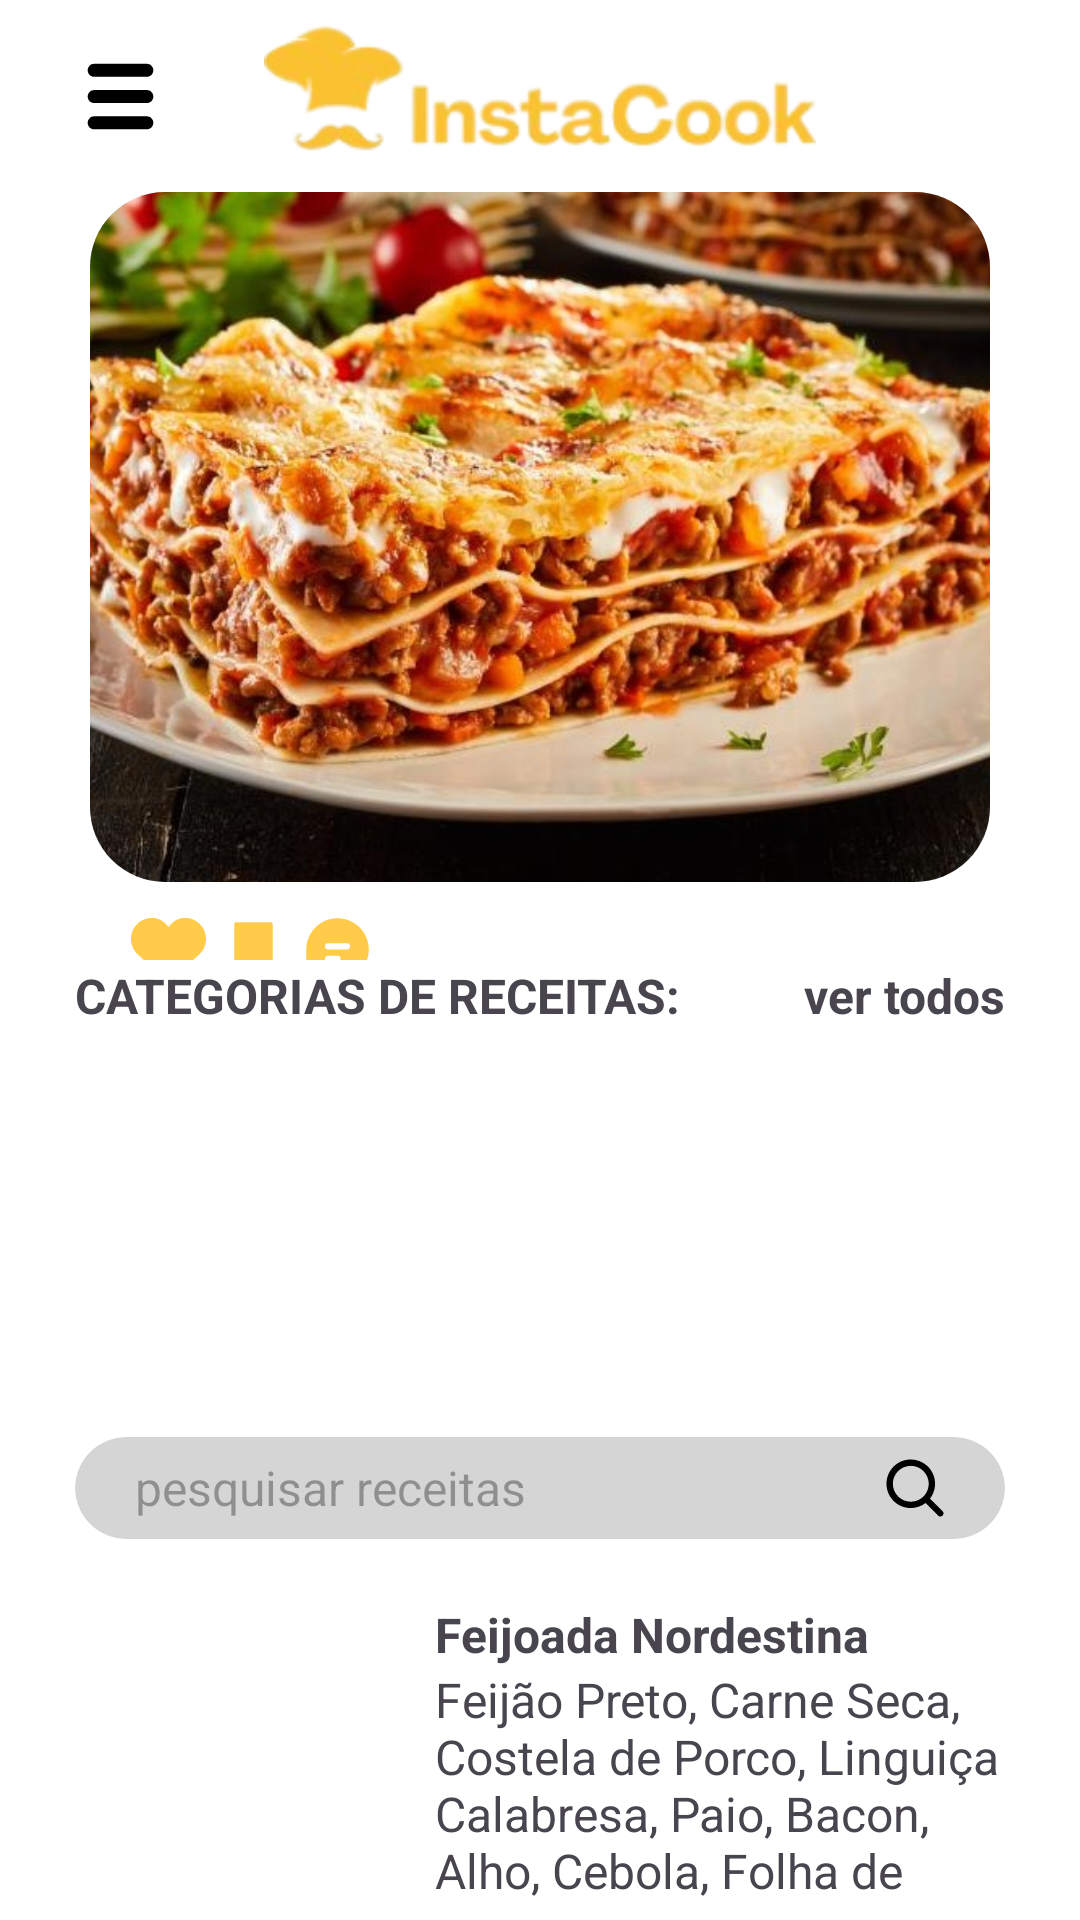

Icon click points for this 1080×1920 phone screenshot, format point (x, y):
menu: point (120, 96)
search: point (915, 1488)
